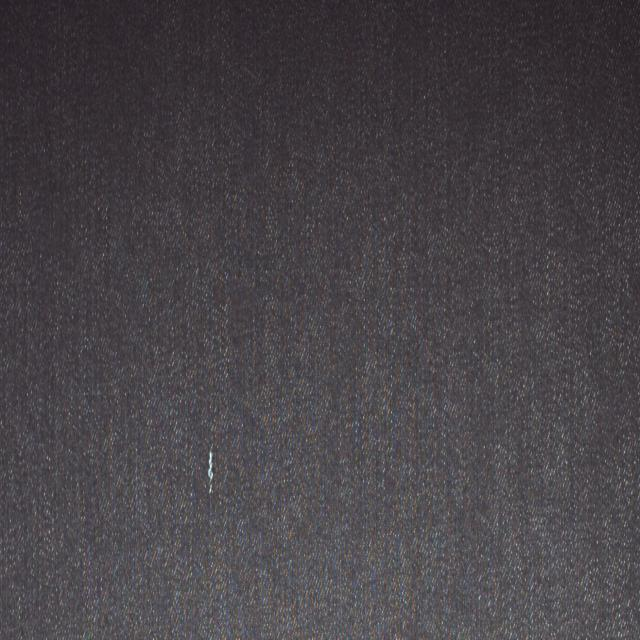Knot: (207, 448, 214, 496)
